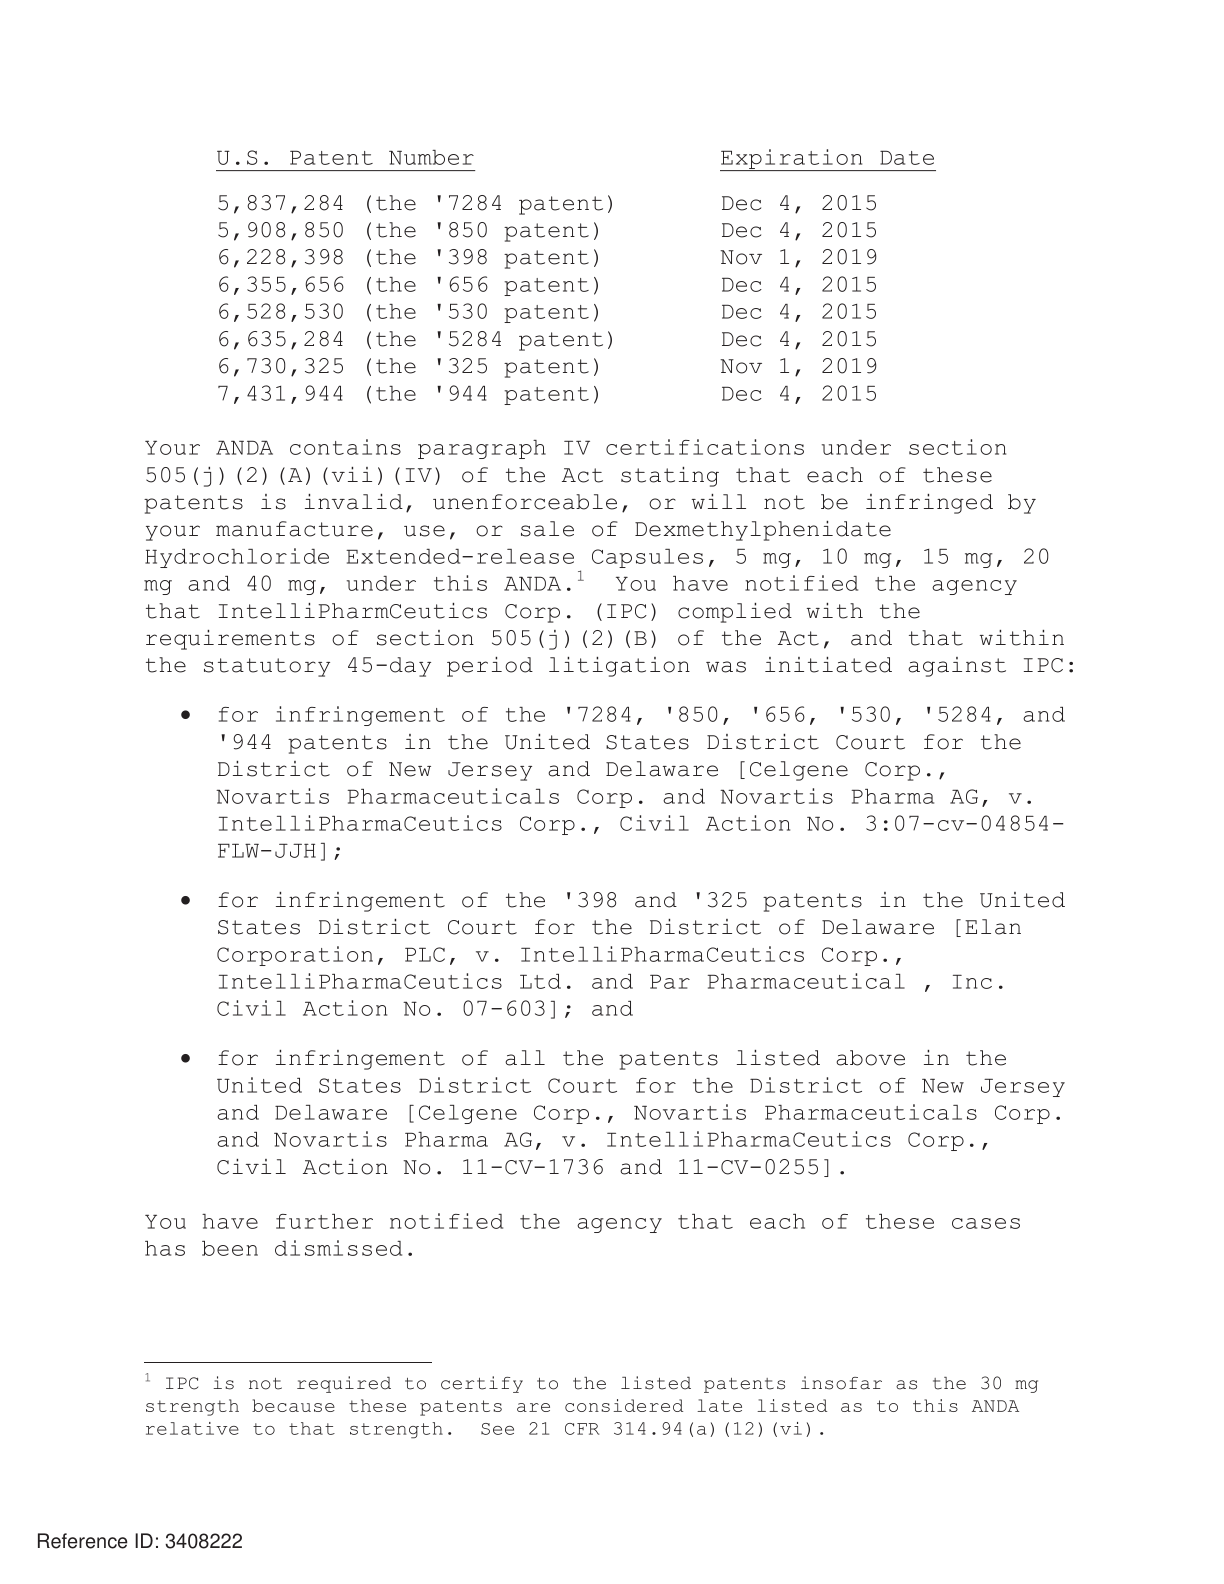nolines: (211, 141, 941, 411)
